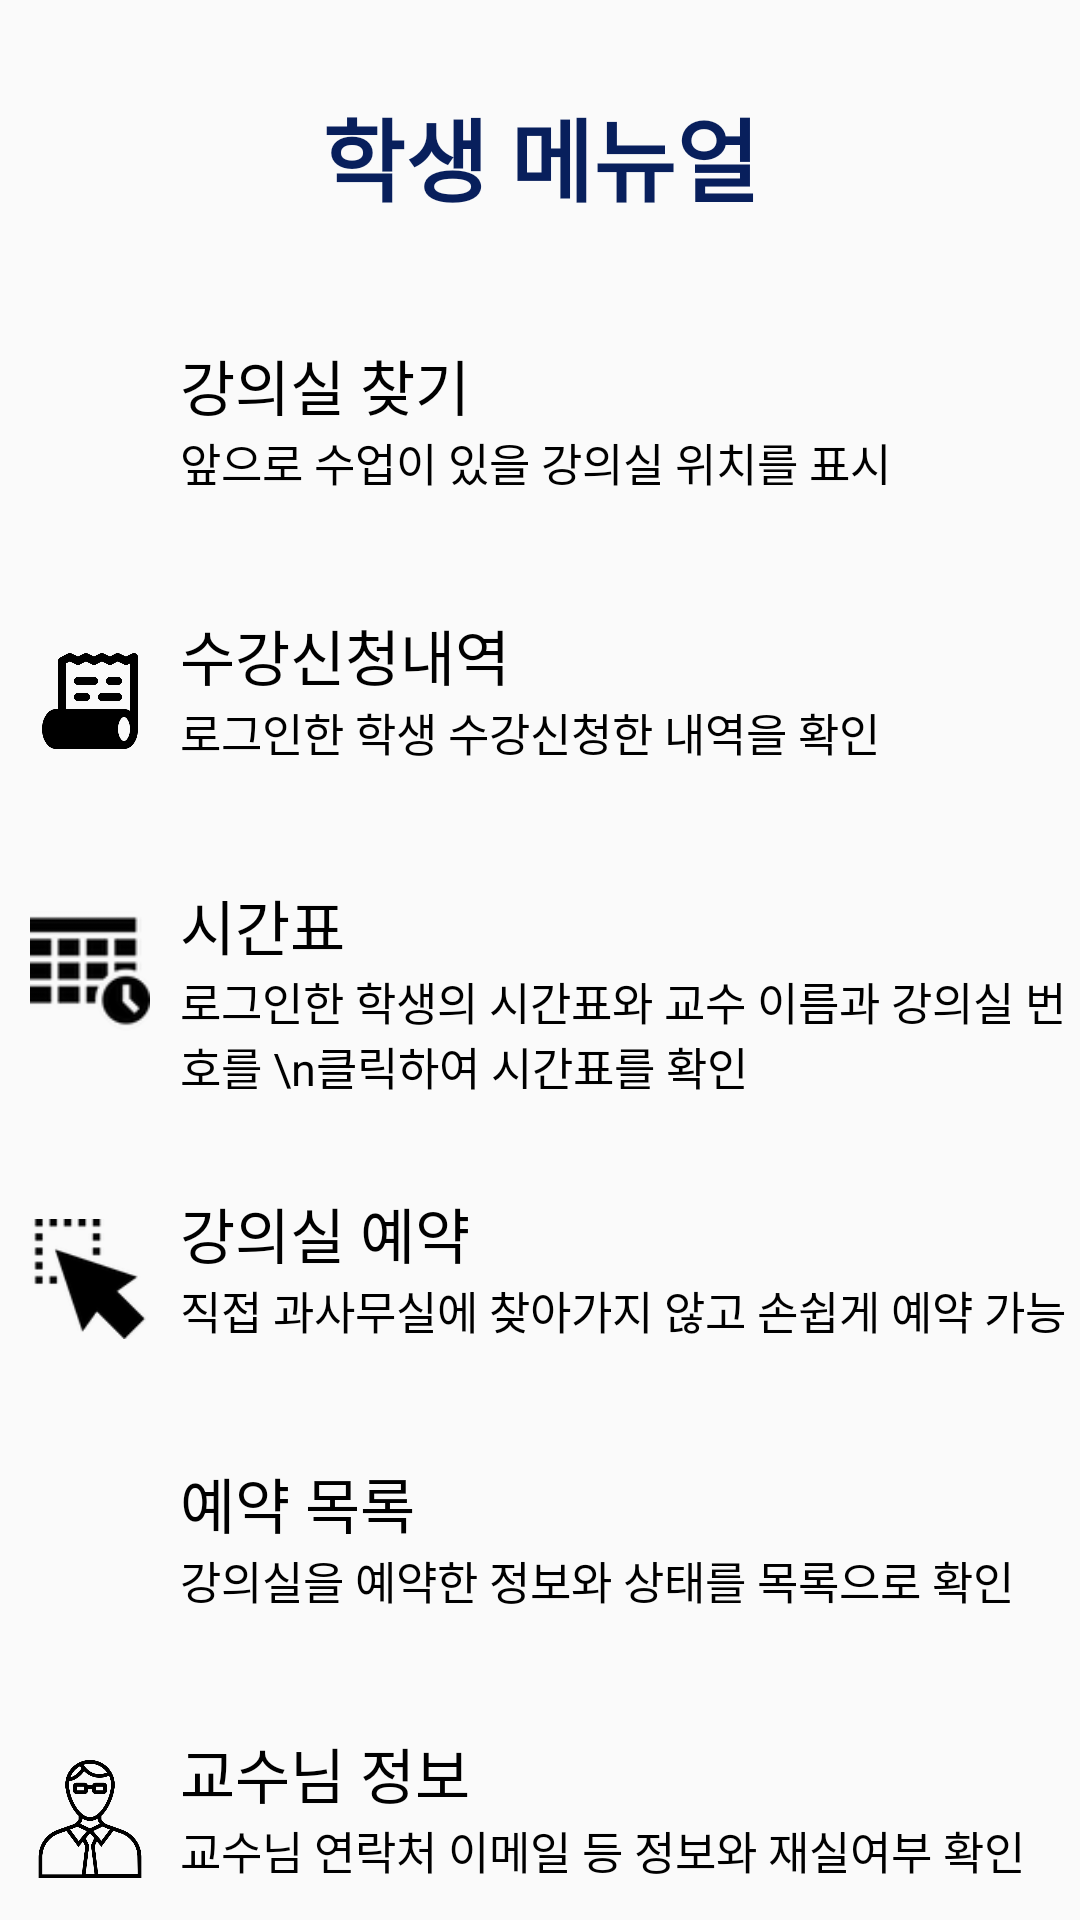

Icons on this 1080 × 1920 Android screen, each with the point to tap as (x=x, y=y):
history: (x=90, y=701)
professor: (x=90, y=1819)
timetable: (x=90, y=971)
